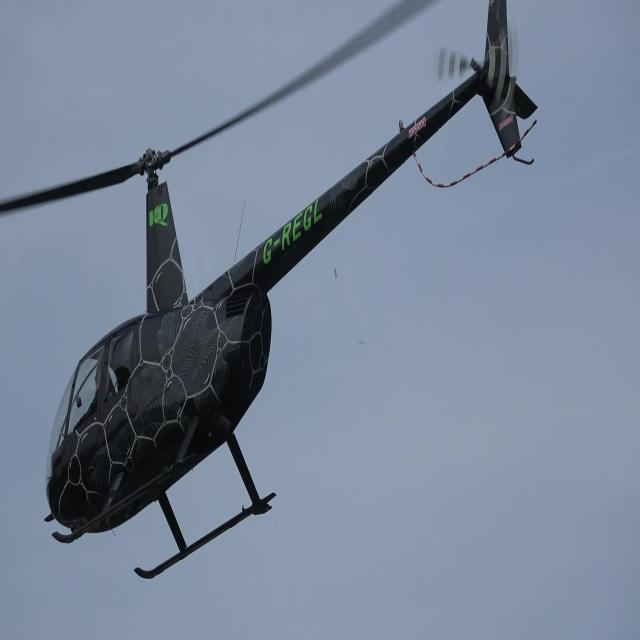CIV_HELO: (45, 0, 540, 584)
